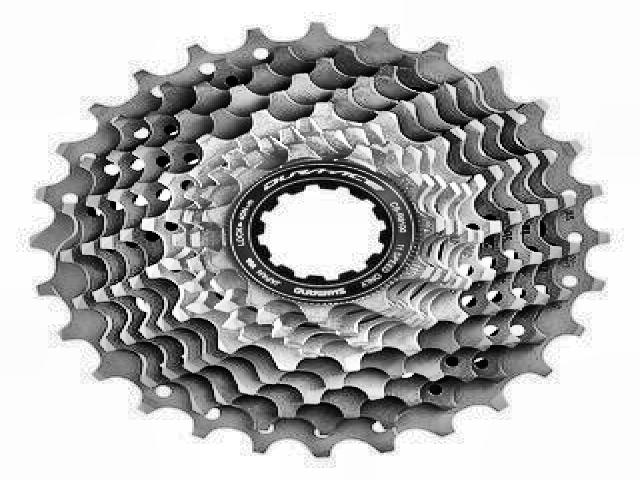cassette: (35, 23, 611, 460)
